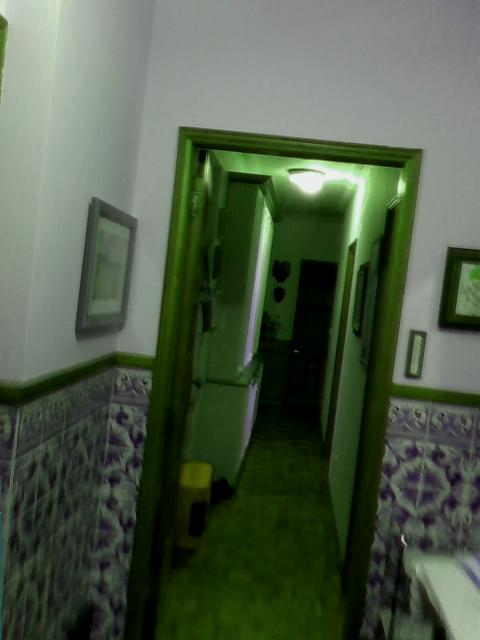open_door: (126, 124, 422, 639)
